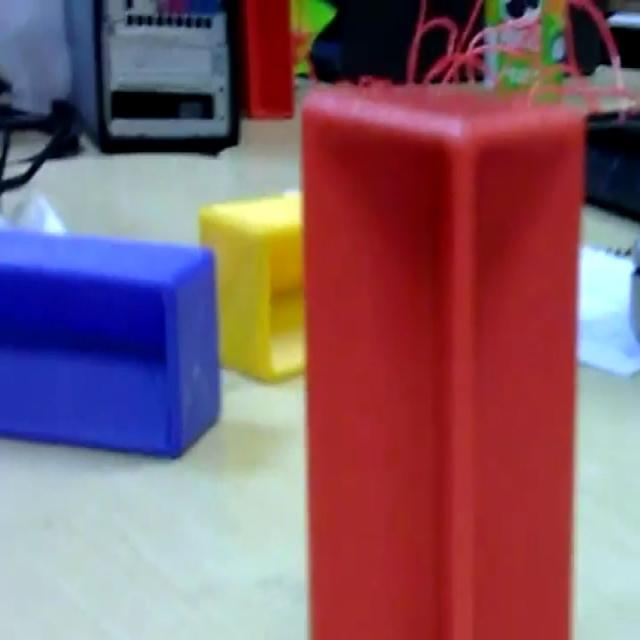blue_block: (0, 221, 221, 458)
red_block: (299, 77, 587, 636)
yellow_block: (197, 186, 306, 382)
